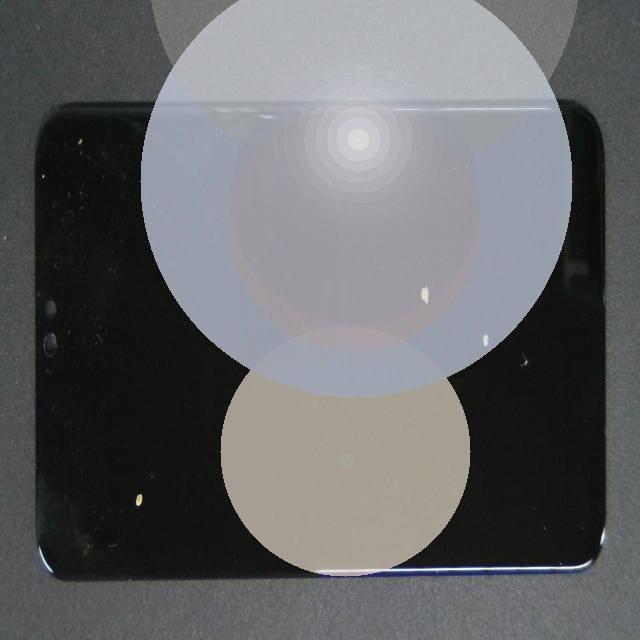stain: (222, 137, 640, 530), (228, 122, 640, 383), (53, 224, 189, 640)
